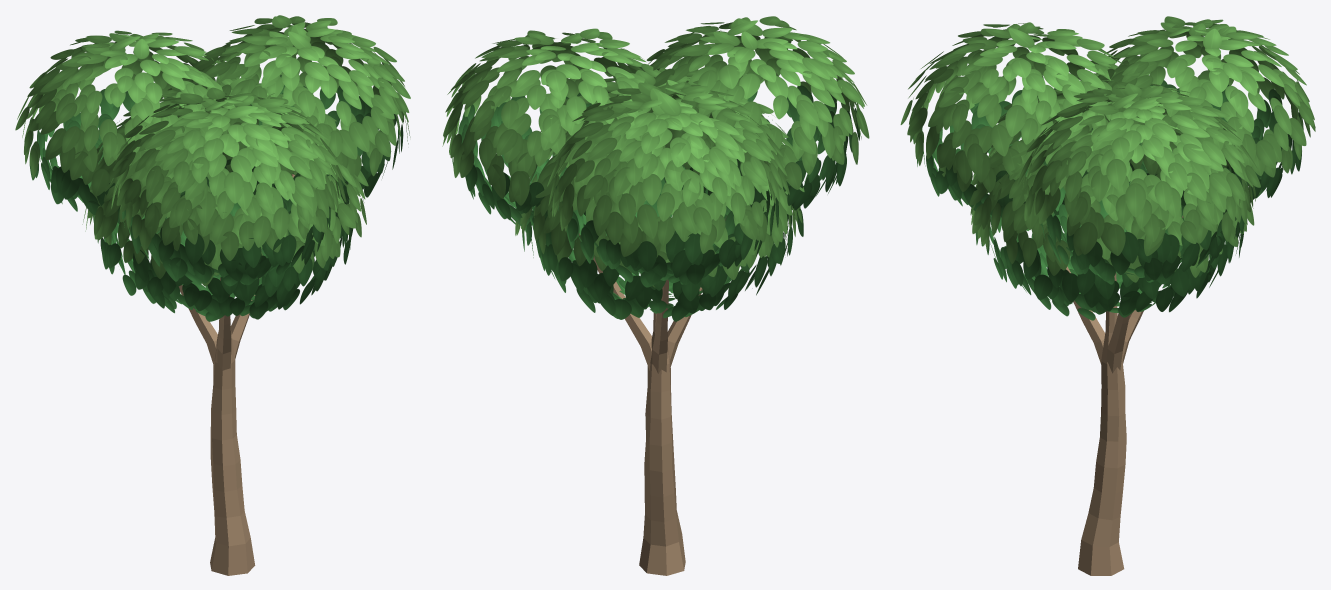
Rendered from street_round_deep.glb.
3 renders of one model, left to right at view 1: azimuth 30°, elevation 25°; view 2: azimuth 150°, elevation 25°; view 3: azimuth 270°, elevation 25°, orthographic. The views are drawn at different scales.
Parts seen in each view (by area): view 1: foliage, trunk; view 2: foliage, trunk; view 3: foliage, trunk.
Part boxes in pixels (x1,y1,x2,y2): foliage: (15, 15, 410, 321); trunk: (178, 174, 295, 575); foliage: (442, 16, 869, 321); trunk: (579, 216, 726, 575); foliage: (900, 16, 1315, 320); trunk: (1061, 215, 1183, 575).
Size of the model in its own units: 3.12 by 4.48 by 3.28.
Materials: 3 (2 with a texture image).
